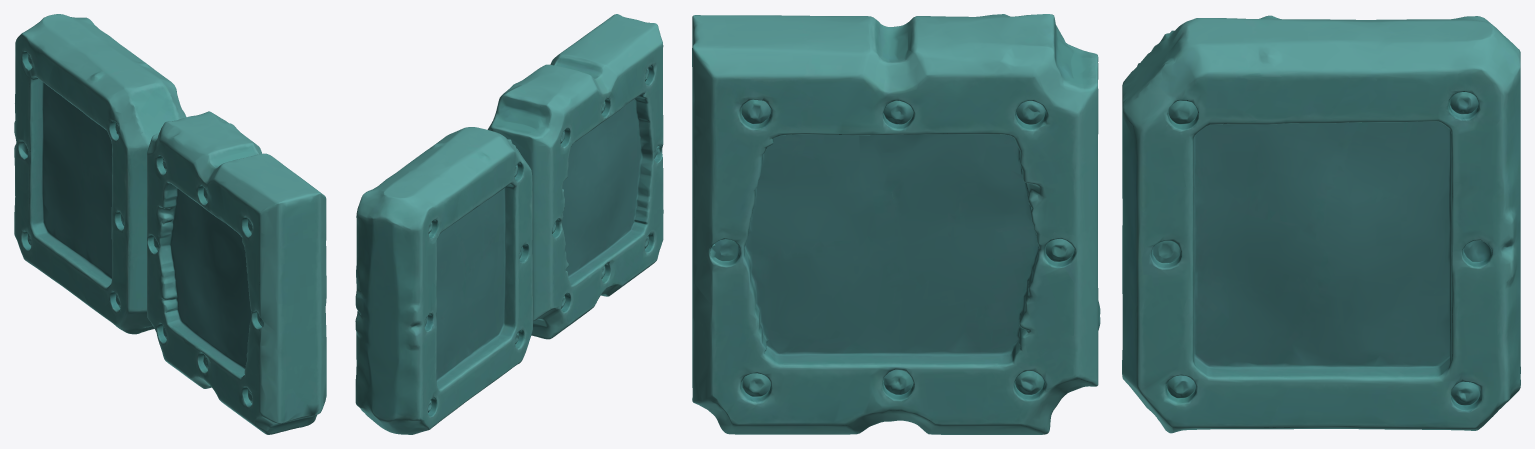
The model's file is silicon-application-kit-2pcs.glb.
The picture shows the model from 3 angles, left to right: view 1: azimuth 30°, elevation 25°; view 2: azimuth 150°, elevation 25°; view 3: azimuth 270°, elevation 25°; orthographic projection. The views are drawn at different scales.
Parts seen in each view (by area): view 1: tripo_node_7b3fc903-eed0-4aa2-b13e-a54748bbaee6; view 2: tripo_node_7b3fc903-eed0-4aa2-b13e-a54748bbaee6; view 3: tripo_node_7b3fc903-eed0-4aa2-b13e-a54748bbaee6.
Part boxes in pixels (x1,y1,x2,y2): tripo_node_7b3fc903-eed0-4aa2-b13e-a54748bbaee6: (14,14,326,434); tripo_node_7b3fc903-eed0-4aa2-b13e-a54748bbaee6: (355,14,663,434); tripo_node_7b3fc903-eed0-4aa2-b13e-a54748bbaee6: (692,14,1520,434).
Size of the model in its own units: 0.1505 by 0.5185 by 1.
Materials: 1 (1 with a texture image).
